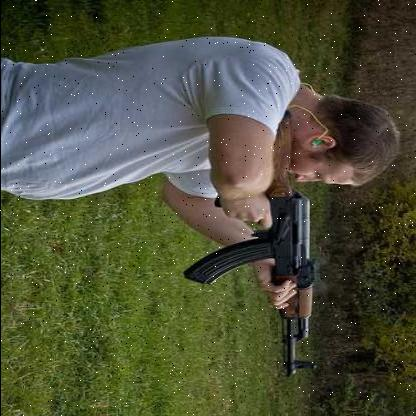rifle: (175, 110, 340, 387)
